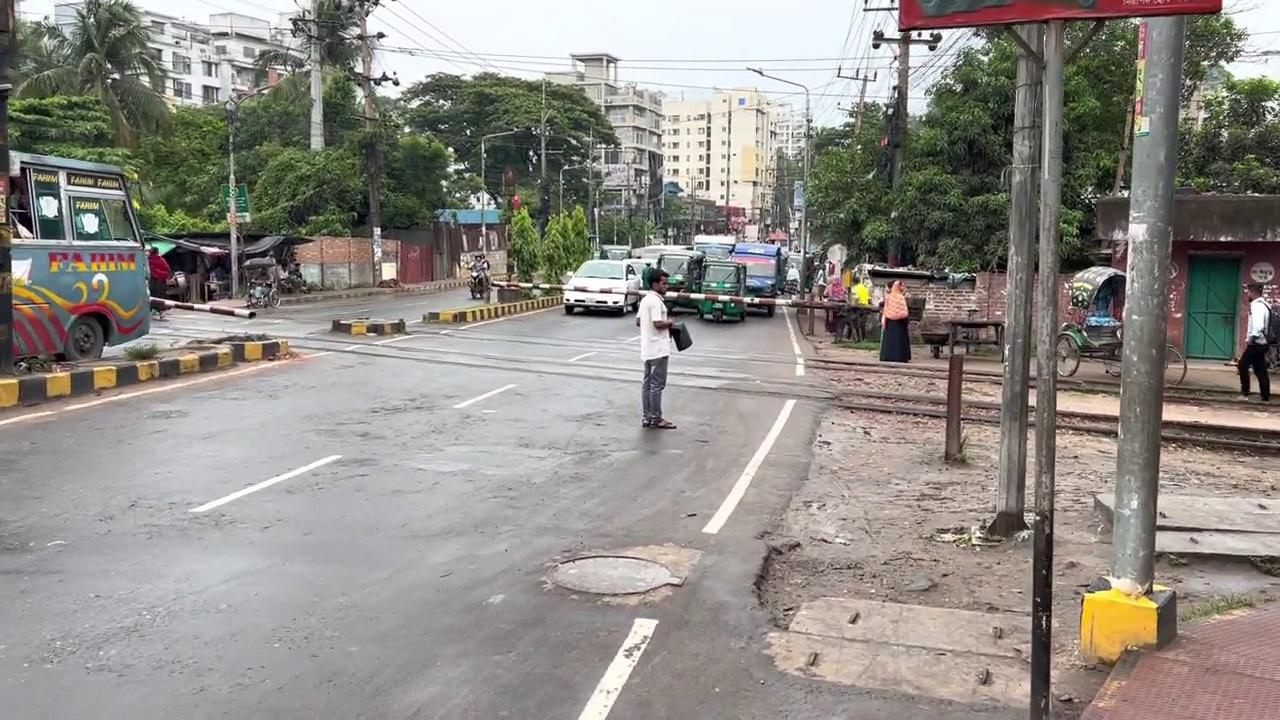Car: (0, 332, 290, 408)
Curb: (466, 260, 491, 300)
Fence: (635, 267, 677, 429), (1237, 281, 1274, 402), (878, 279, 911, 362), (147, 246, 172, 319)
Garbage: (1108, 14, 1185, 597), (986, 22, 1043, 538), (1029, 19, 1065, 718), (224, 99, 239, 298), (307, 1, 325, 151), (150, 296, 256, 319)
Garbage-bin: (550, 555, 690, 600)
Motorcycle: (148, 291, 1276, 457)
Rickshaw: (5, 147, 152, 367)
